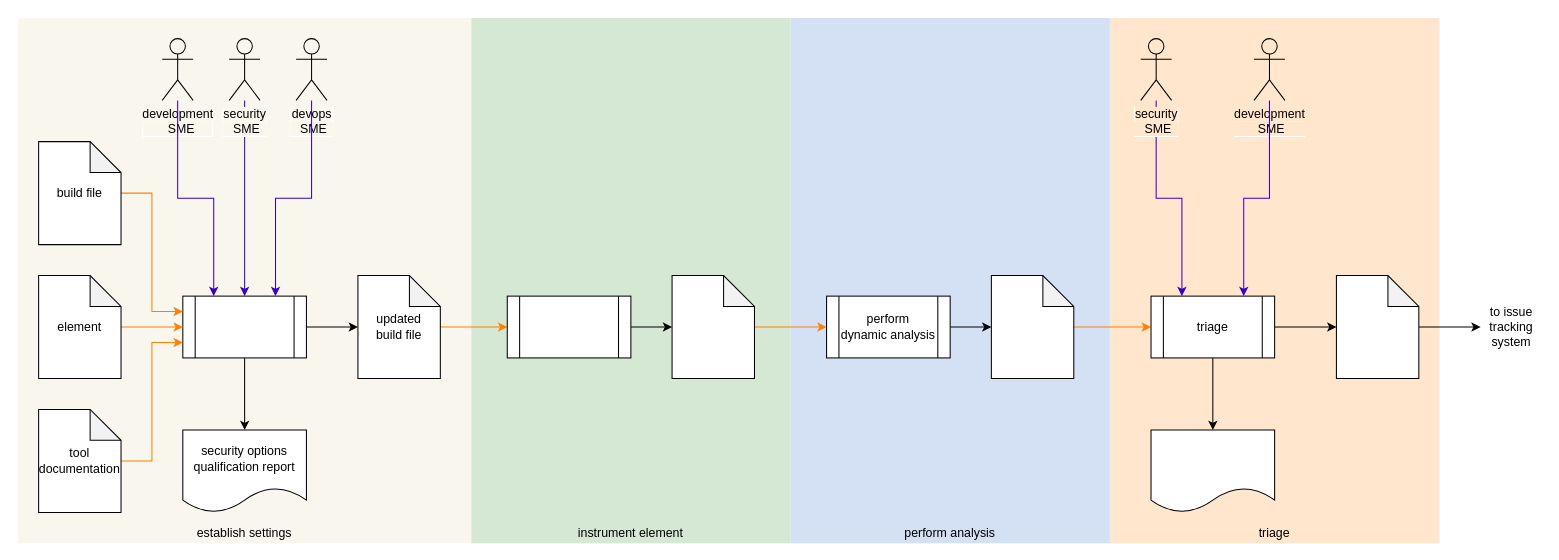
This 1559x560 diagram has some shape labels left out. Each missing label, with the centre of its shape:
"build instrumented element" belongs at pixel 568 326.
"dynamic analysis output" belongs at pixel 1032 326.
"dynamic analysis report" belongs at pixel 1212 470.
"establish secure dynamic analysis settings" belongs at pixel 244 326.
"identified issues" belongs at pixel 1377 326.
"instrumented element" belongs at pixel 712 326.
